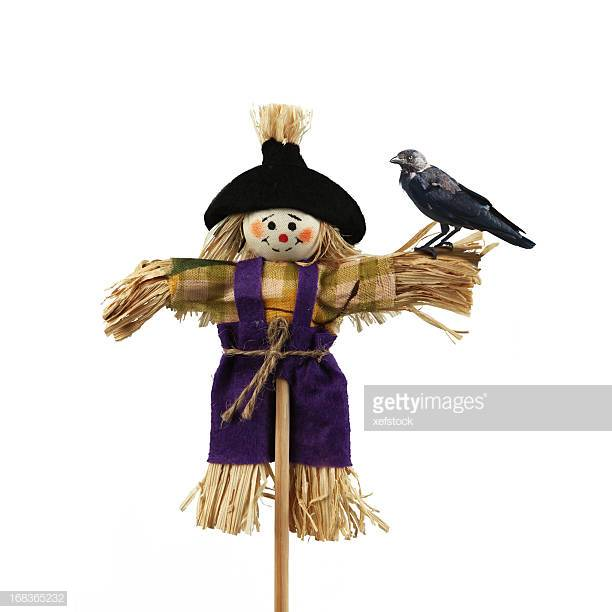person-like: (93, 104, 484, 546)
